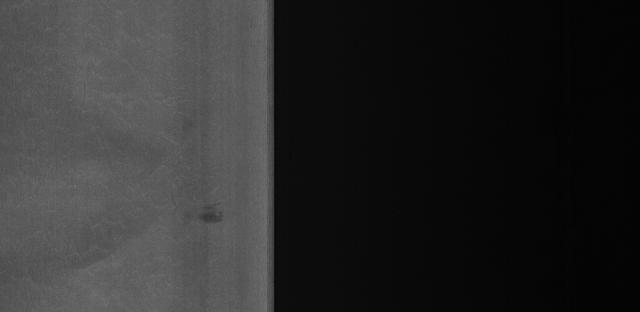oil_spot: (194, 203, 228, 232)
silk_spot: (1, 15, 186, 252)
